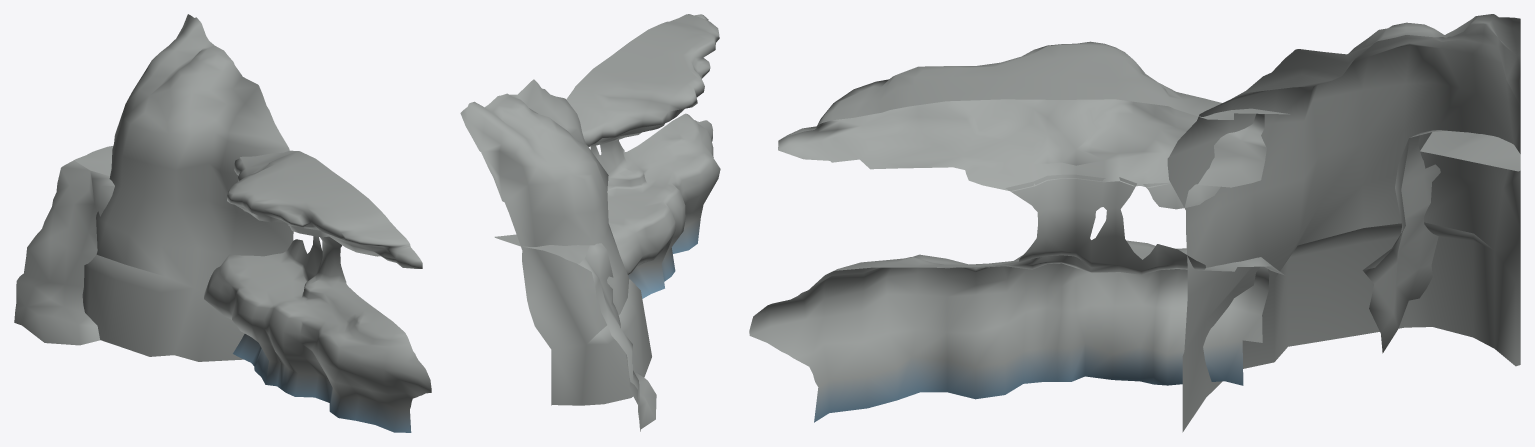
3 renders of one model, left to right at view 1: azimuth 30°, elevation 25°; view 2: azimuth 150°, elevation 25°; view 3: azimuth 270°, elevation 25°, orthographic. The views are drawn at different scales.
Visible parts, largest first — view 1: G:\FFXIV-MapTools\exports\w1f1\bg\ffxiv\wil_w1\fld\w1f1\bgpl (×6); view 2: G:\FFXIV-MapTools\exports\w1f1\bg\ffxiv\wil_w1\fld\w1f1\bgpl (×6); view 3: G:\FFXIV-MapTools\exports\w1f1\bg\ffxiv\wil_w1\fld\w1f1\bgpl (×6).
Boxes of the visible parts, <box> form: G:\FFXIV-MapTools\exports\w1f1\bg\ffxiv\wil_w1\fld\w1f1\bgpl (×6): <box>14,14,431,432</box>; G:\FFXIV-MapTools\exports\w1f1\bg\ffxiv\wil_w1\fld\w1f1\bgpl (×6): <box>460,14,720,431</box>; G:\FFXIV-MapTools\exports\w1f1\bg\ffxiv\wil_w1\fld\w1f1\bgpl (×6): <box>749,14,1520,432</box>.
Bounding box in the file's own units: 44.23 × 66.9 × 108.
